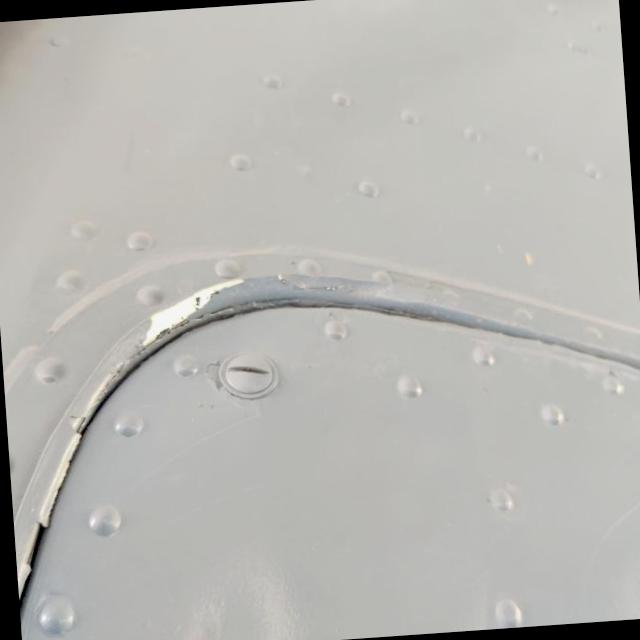paint-off: (118, 266, 254, 366)
